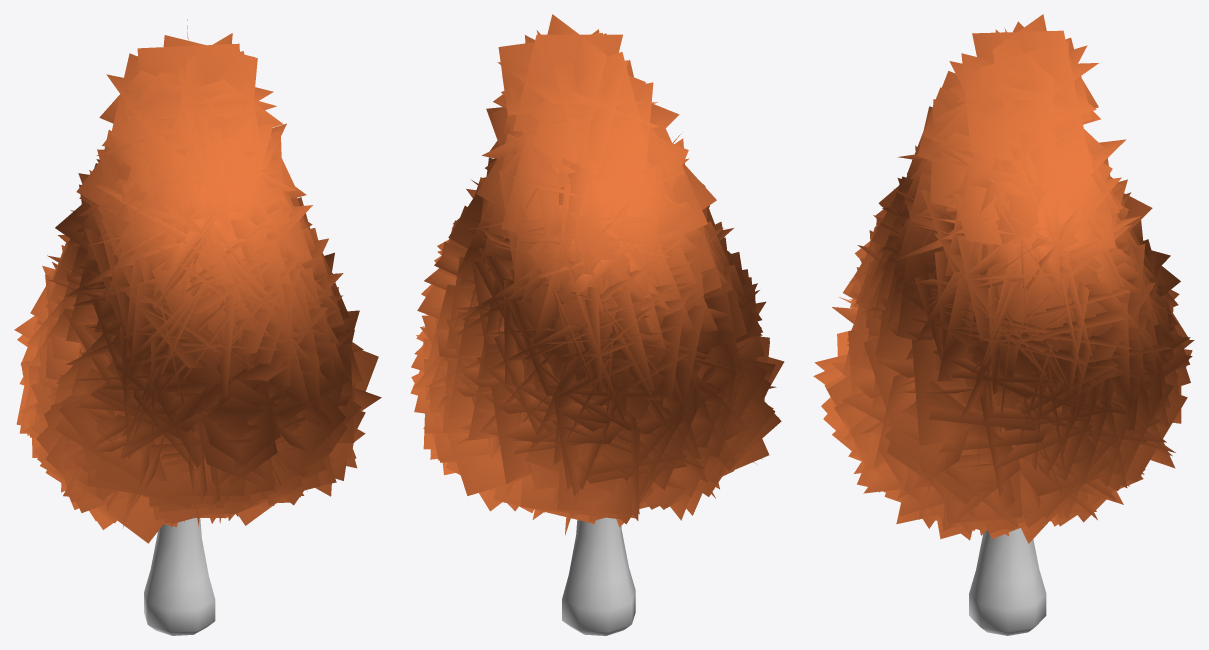
The model's file is SM_Tree_09.fbx.
The picture shows the model from 3 angles, left to right: view 1: azimuth 30°, elevation 25°; view 2: azimuth 150°, elevation 25°; view 3: azimuth 270°, elevation 25°; orthographic projection. The views are drawn at different scales.
Parts seen in each view (by area): view 1: SM_Tree_09_LOD0; view 2: SM_Tree_09_LOD0; view 3: SM_Tree_09_LOD0.
Part boxes in pixels (bbox=[...]): SM_Tree_09_LOD0: bbox=[14, 19, 381, 635]; SM_Tree_09_LOD0: bbox=[410, 14, 784, 635]; SM_Tree_09_LOD0: bbox=[813, 14, 1194, 635].
Size of the model in its own units: 332 by 567 by 321.
